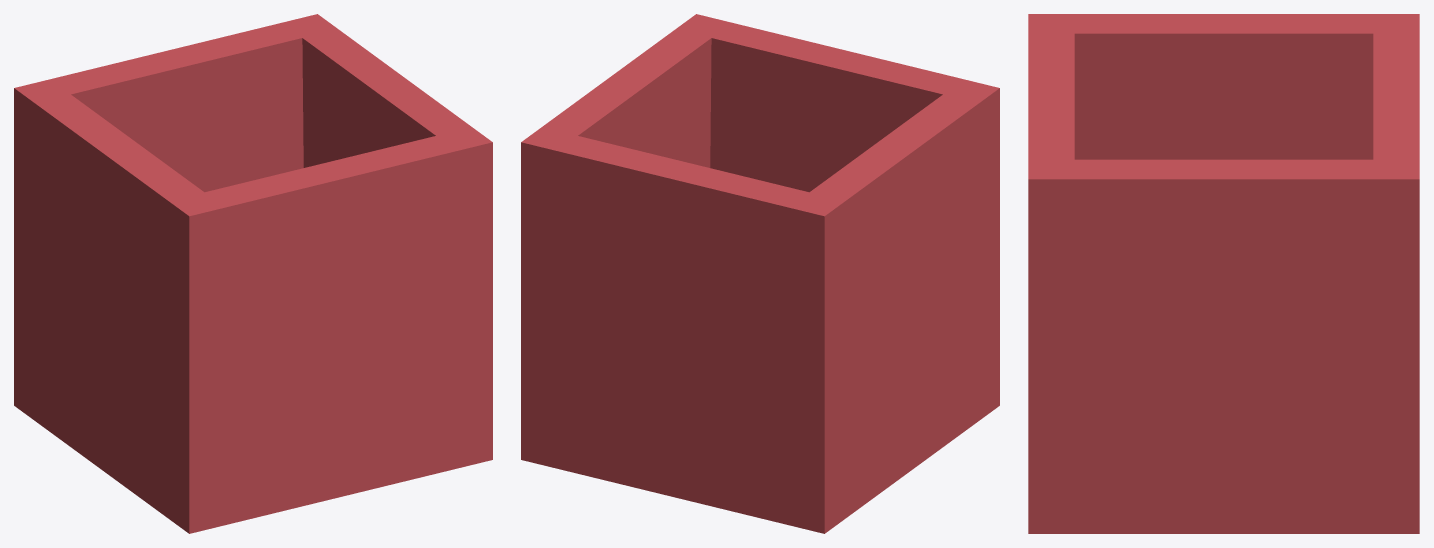
Rendered from Halle3.fbx.
3 views of the same model, side by side, from view 1: azimuth 30°, elevation 25°; view 2: azimuth 150°, elevation 25°; view 3: azimuth 270°, elevation 25° (orthographic). The views are drawn at different scales.
Parts seen in each view (by area): view 1: Cube; view 2: Cube; view 3: Cube.
Boxes of the visible parts, x1=… form: Cube: x1=14, y1=14, x2=492, y2=533; Cube: x1=521, y1=14, x2=999, y2=533; Cube: x1=1028, y1=14, x2=1419, y2=533.
Bounding box in the file's own units: 15.49 × 15.49 × 15.49.
